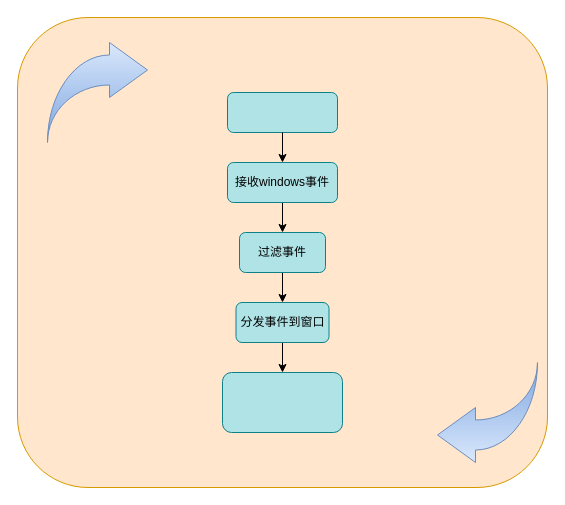
Image size: 565x505. Some labels were removed from this diagram. The box of each missing label's shape, as (x1, y1, x2, y2) in pixels:
处理异步消息队列: (226, 92, 338, 132)
阻塞等待新事件: (222, 372, 342, 432)
